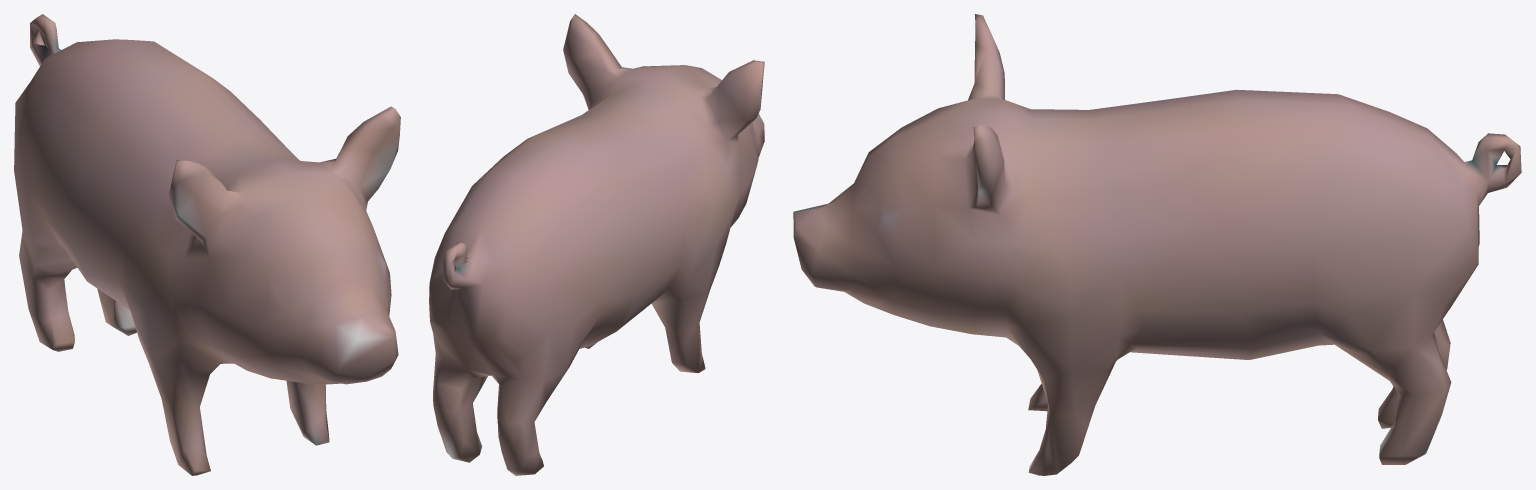
The model's file is pig.glb.
3 renders of one model, left to right at view 1: azimuth 30°, elevation 25°; view 2: azimuth 150°, elevation 25°; view 3: azimuth 270°, elevation 25°, orthographic. The views are drawn at different scales.
Visible parts, largest first — view 1: LOW; view 2: LOW; view 3: LOW.
Boxes of the visible parts, x1,y1,x2,y2 form: LOW: [14, 14, 400, 475]; LOW: [429, 14, 764, 475]; LOW: [793, 14, 1521, 475].
Bounding box in the file's own units: 0.1324 × 0.1951 × 0.3436.
